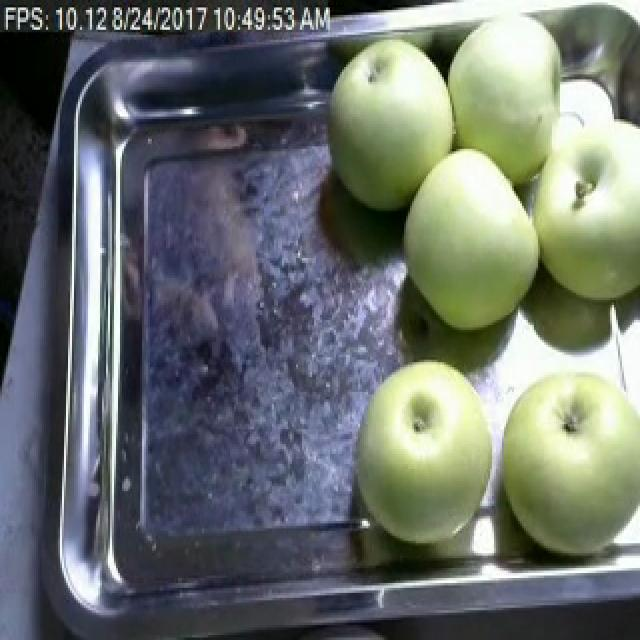50-_ripeness: (393, 150, 544, 340), (350, 354, 490, 552), (502, 363, 640, 562), (329, 42, 454, 208), (442, 19, 566, 176), (535, 125, 640, 308)
